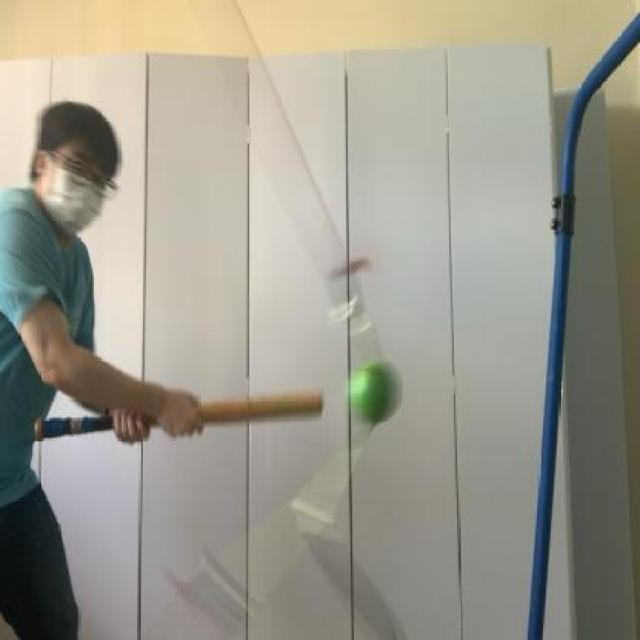baseball: (326, 352, 408, 438)
